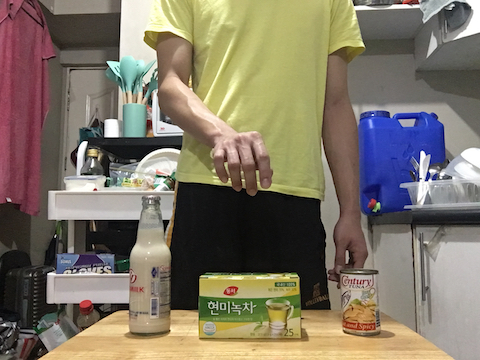bottle: (124, 189, 179, 341)
box: (195, 268, 303, 345)
can: (341, 267, 380, 339)
